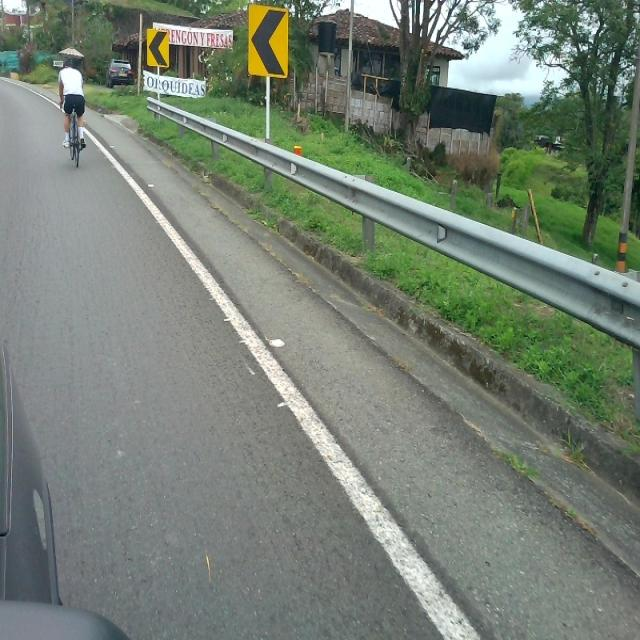DITCH: (1, 74, 638, 639)
